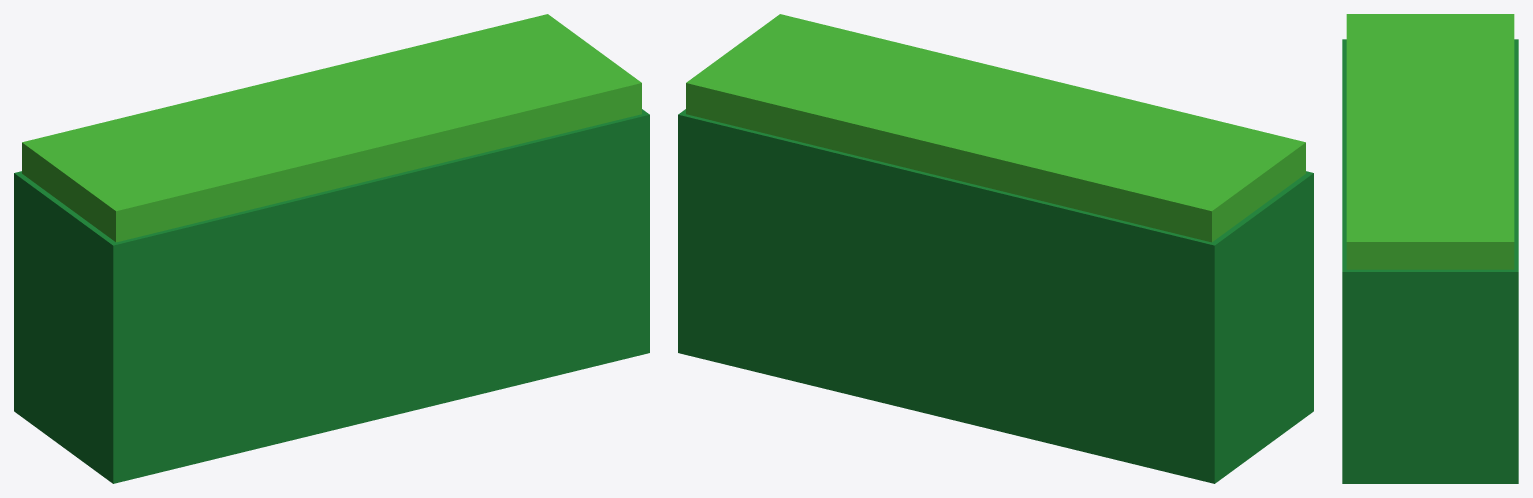
Rendered from hedge_segment.fbx.
3 renders of one model, left to right at view 1: azimuth 30°, elevation 25°; view 2: azimuth 150°, elevation 25°; view 3: azimuth 270°, elevation 25°, orthographic. The views are drawn at different scales.
Visible parts, largest first — view 1: hedge_segment; view 2: hedge_segment; view 3: hedge_segment.
Part boxes in pixels (box(x1,y1,x2,y2)): hedge_segment: box(14, 14, 649, 483); hedge_segment: box(678, 14, 1313, 483); hedge_segment: box(1342, 14, 1518, 483).
Bounding box in the file's own units: 2.5 × 1.2 × 0.8.
